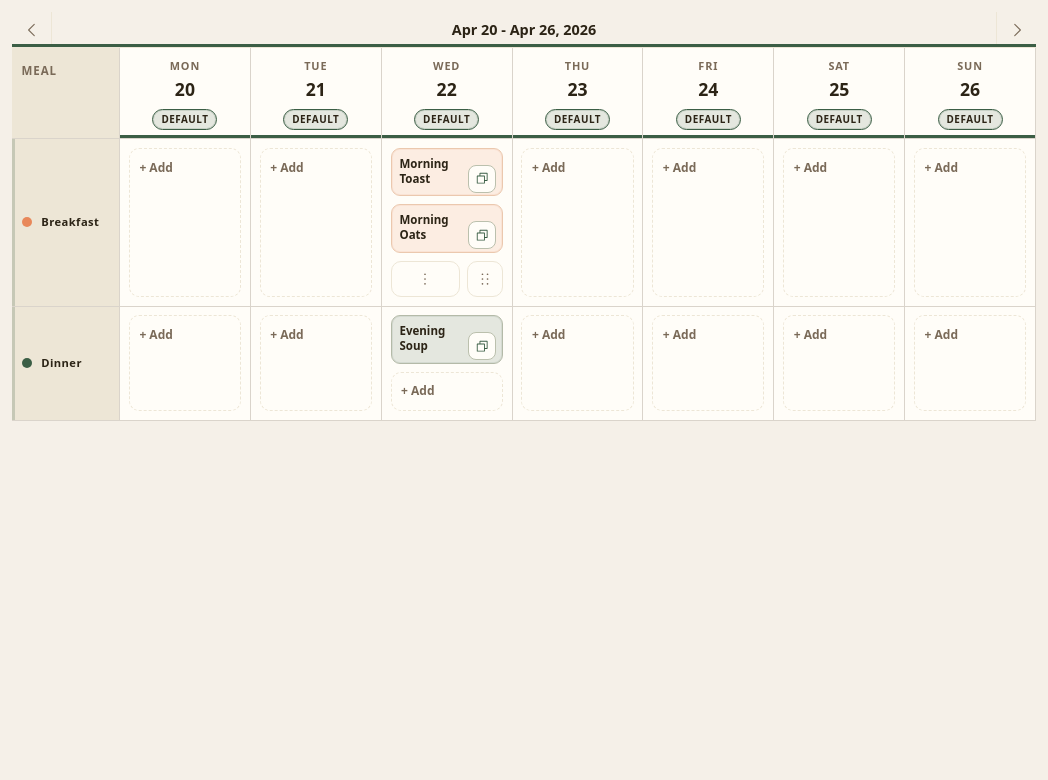
Test: meal plan drag prompt paths › dismisses the slot overflow menu with Escape and outside pointer input
This screenshot has width=1048, height=780.
Click the button named "More actions for breakfast meals" at (425, 279), box x1=390 y1=261 x2=460 y2=297
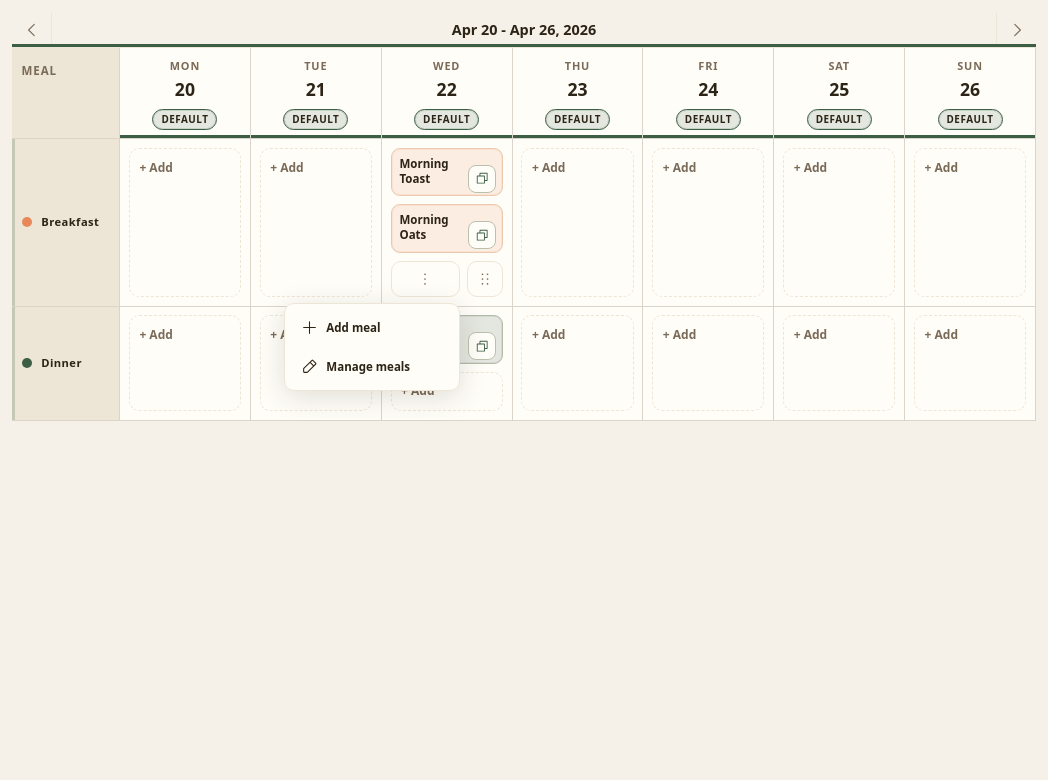
Press Escape
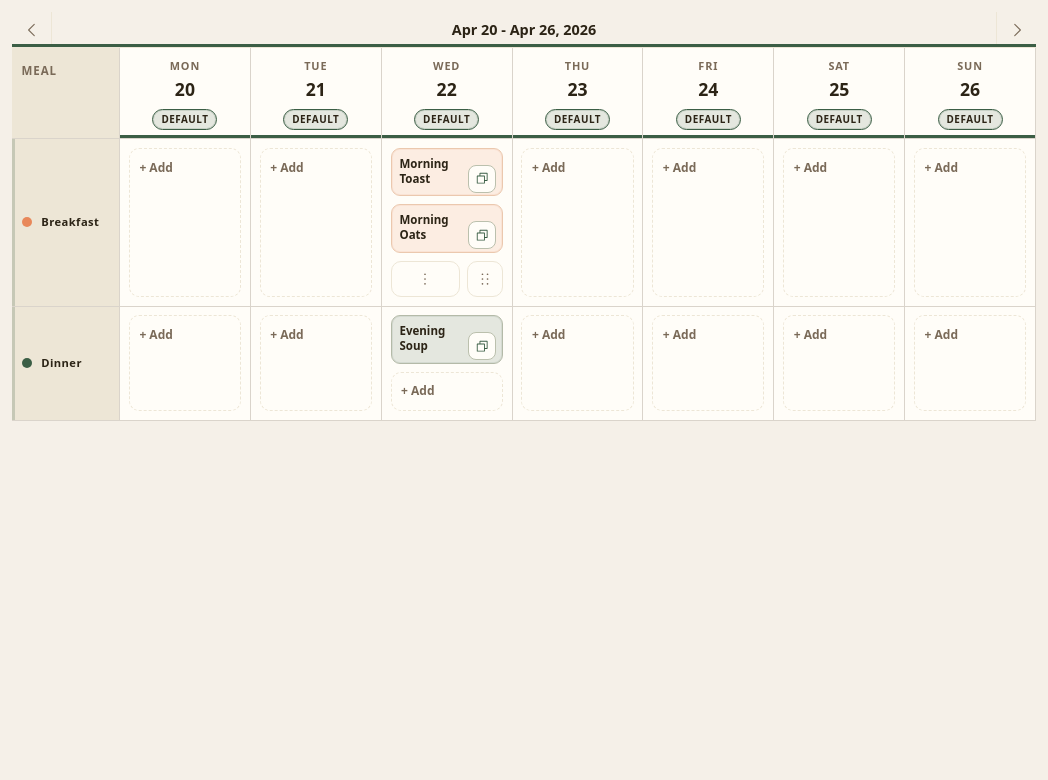
Expected: the menu is gone
Click the button named "More actions for breakfast meals" at (425, 279), box x1=390 y1=261 x2=460 y2=297
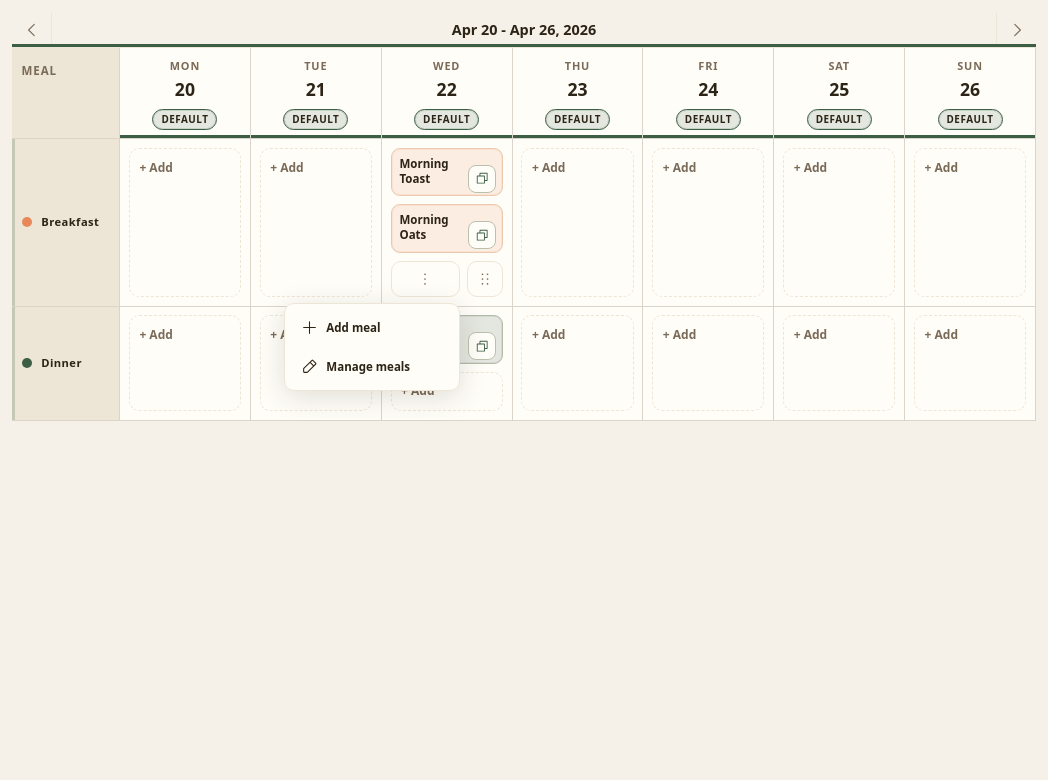
Press the mouse on the element that starts with "Apr 20" at (524, 396), box x1=12 y1=12 x2=1036 y2=779
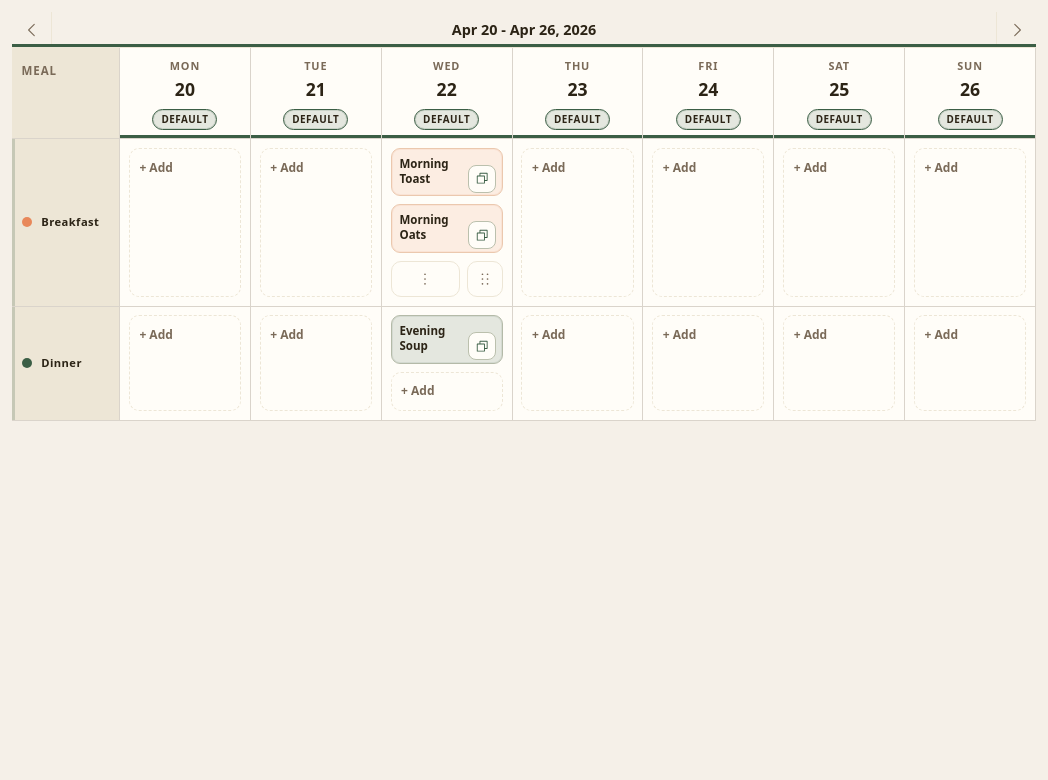
Expected: the menu is gone
